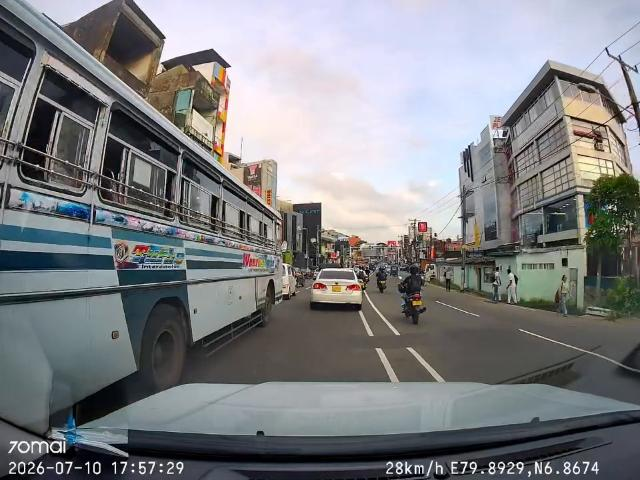illegal overtaking: (396, 267, 430, 329)
